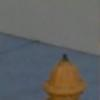a fire hydrant: (46, 55, 88, 98)
